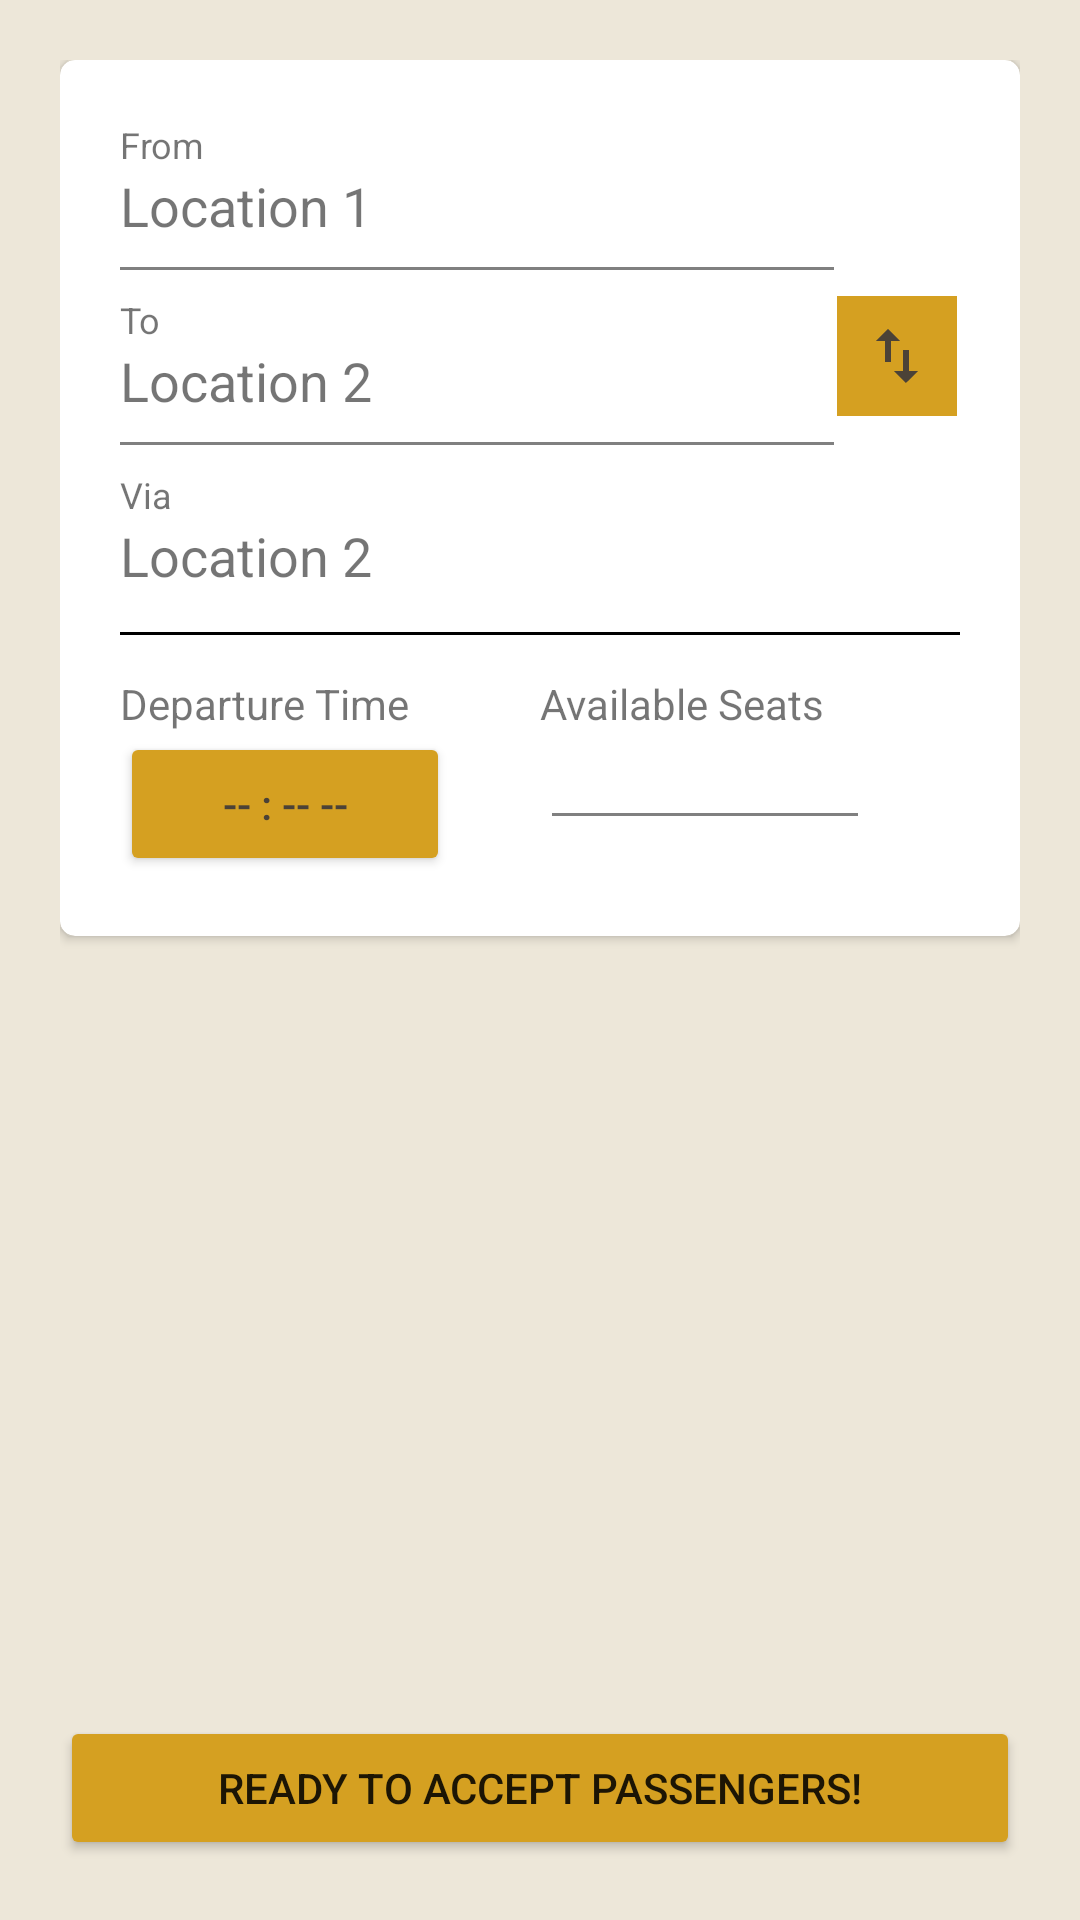

Where to tap for icons on this 1080w x 1920h app screen, as point (x, y):
change: point (897, 356)
